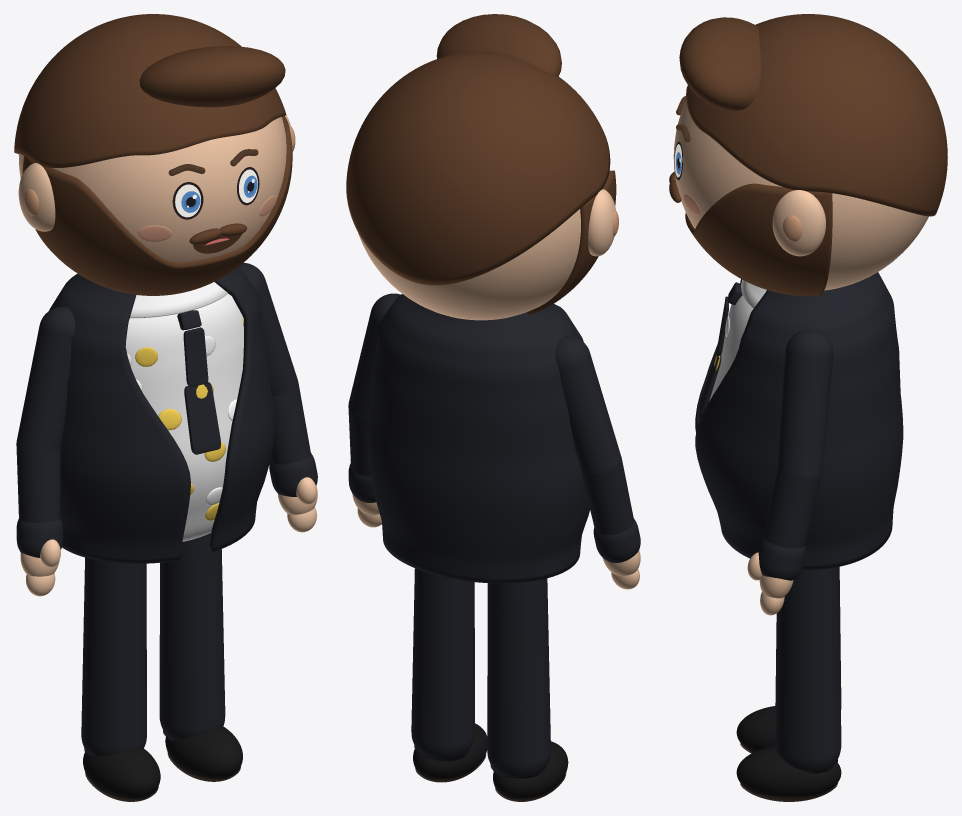
Rendered from papa_zwart.glb.
3 renders of one model, left to right at view 1: azimuth 30°, elevation 25°; view 2: azimuth 150°, elevation 25°; view 3: azimuth 270°, elevation 25°, orthographic. The views are drawn at different scales.
Parts seen in each view (by area): view 1: papa_zwart_jas, papa_zwart_haar, papa_zwart_hoofd, papa_zwart_been_R, papa_zwart_baard, papa_zwart_been_L, papa_zwart_romp, papa_zwart_haar_kuif, papa_zwart_bovenarm_R, papa_zwart_onderarm_R, papa_zwart_schoen_R, papa_zwart_schoen_L (+10 smaller); view 2: papa_zwart_jas, papa_zwart_haar, papa_zwart_been_R, papa_zwart_been_L, papa_zwart_hoofd, papa_zwart_bovenarm_R, papa_zwart_haar_kuif, papa_zwart_onderarm_R, papa_zwart_bovenarm_L, papa_zwart_schoen_R, papa_zwart_schoen_L, papa_zwart_baard (+4 smaller); view 3: papa_zwart_jas, papa_zwart_haar, papa_zwart_been_L, papa_zwart_hoofd, papa_zwart_baard, papa_zwart_bovenarm_L, papa_zwart_haar_kuif, papa_zwart_schoen_L, papa_zwart_onderarm_L, papa_zwart_oor_L, papa_zwart_manchet_L, papa_zwart_schoen_R (+3 smaller).
Part boxes in pixels (x1,y1,x2,y2): papa_zwart_jas: (49,267,274,563); papa_zwart_haar: (14,14,286,167); papa_zwart_hoofd: (19,117,286,262); papa_zwart_been_R: (81,557,146,756); papa_zwart_baard: (22,116,292,295); papa_zwart_been_L: (159,533,225,739); papa_zwart_romp: (125,294,243,541); papa_zwart_haar_kuif: (139,46,285,107); papa_zwart_bovenarm_R: (16,306,75,450); papa_zwart_onderarm_R: (16,443,60,522); papa_zwart_schoen_R: (83,748,160,799); papa_zwart_schoen_L: (165,726,242,779); papa_zwart_jas: (367,294,589,583); papa_zwart_haar: (346,51,610,285); papa_zwart_been_R: (487,578,550,776); papa_zwart_been_L: (411,568,475,758); papa_zwart_hoofd: (358,168,610,320); papa_zwart_bovenarm_R: (555,336,621,475); papa_zwart_haar_kuif: (436,14,561,76); papa_zwart_onderarm_R: (581,460,633,534); papa_zwart_bovenarm_L: (348,293,400,418); papa_zwart_schoen_R: (493,741,568,799); papa_zwart_schoen_L: (413,723,487,779); papa_zwart_baard: (527,170,616,315); papa_zwart_jas: (695,272,903,569); papa_zwart_haar: (686,14,947,216); papa_zwart_been_L: (775,567,841,771); papa_zwart_hoofd: (673,100,928,290); papa_zwart_baard: (685,183,832,295); papa_zwart_bovenarm_L: (777,329,833,480); papa_zwart_haar_kuif: (679,17,760,111); papa_zwart_schoen_L: (736,746,841,797); papa_zwart_onderarm_L: (764,469,820,548); papa_zwart_oor_L: (772,190,825,256); papa_zwart_manchet_L: (758,537,805,580); papa_zwart_schoen_R: (736,706,775,752).
Size of the model in its own units: 0.759 by 1.86 by 0.6207.
